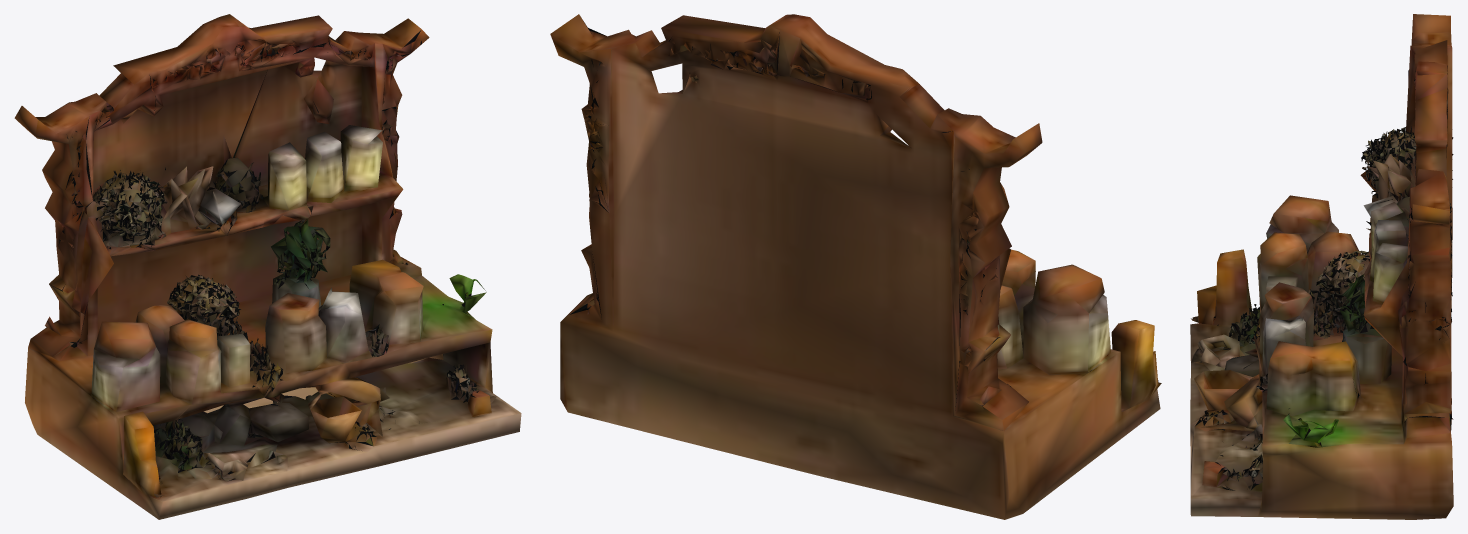
The model's file is bq_apothecary.bk.glb.
3 views of the same model, side by side, from view 1: azimuth 30°, elevation 25°; view 2: azimuth 150°, elevation 25°; view 3: azimuth 270°, elevation 25° (orthographic). The views are drawn at different scales.
Parts seen in each view (by area): view 1: lo; view 2: lo; view 3: lo.
Part boxes in pixels (bbox=[...]): lo: bbox=[14, 14, 521, 519]; lo: bbox=[550, 14, 1161, 519]; lo: bbox=[1190, 14, 1453, 519].
Size of the model in its own units: 2 by 1.77 by 1.15.
Materials: 1 (1 with a texture image).
